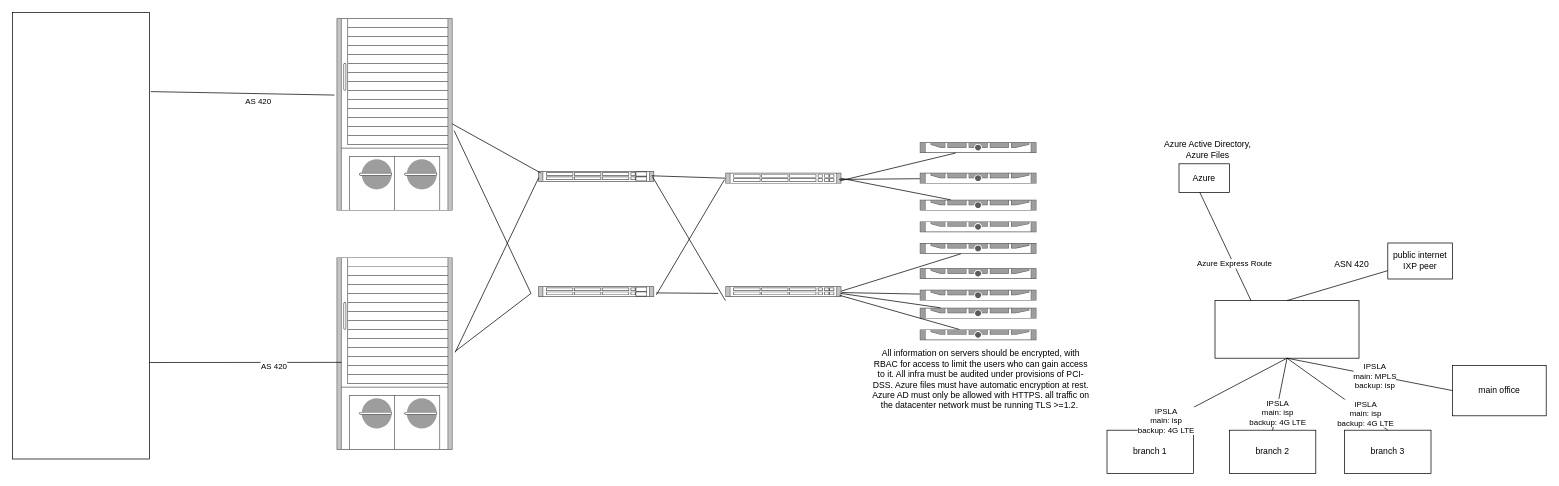
This 1559x486 diagram has some shape labels left out. Each missing label, with the box of its shape:
core datacenter: (1214, 300, 1359, 358)
public IXP: (12, 12, 149, 459)
